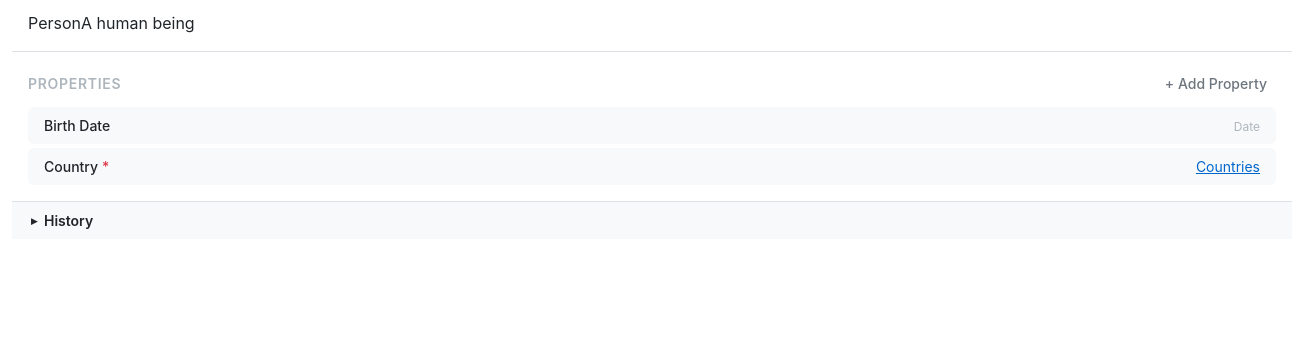
Test case: ClassDetailPane › history footer › toggles history panel and passes project source
This screenshot has width=1304, height=338.
Click the button "▸ History" at coordinates (69, 220), box [12, 202, 1292, 239]
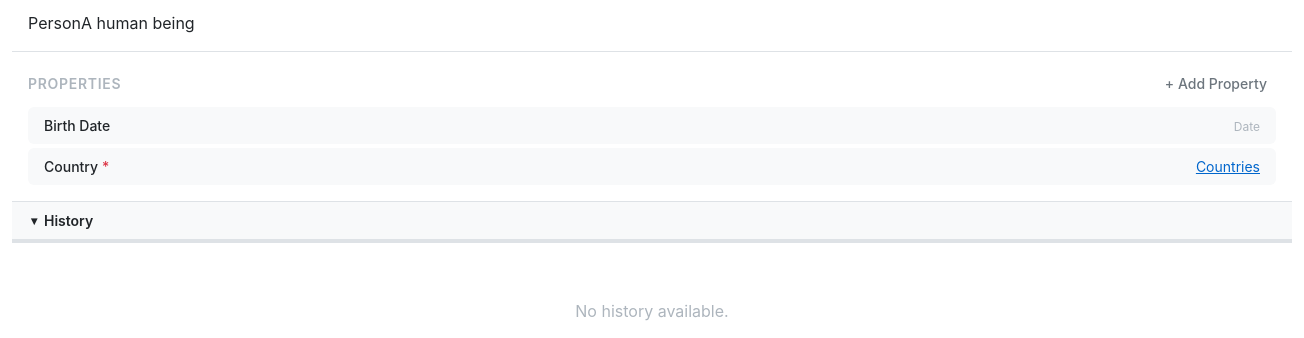
Now the button "▾ History" is expanded, box [12, 202, 1292, 239]
